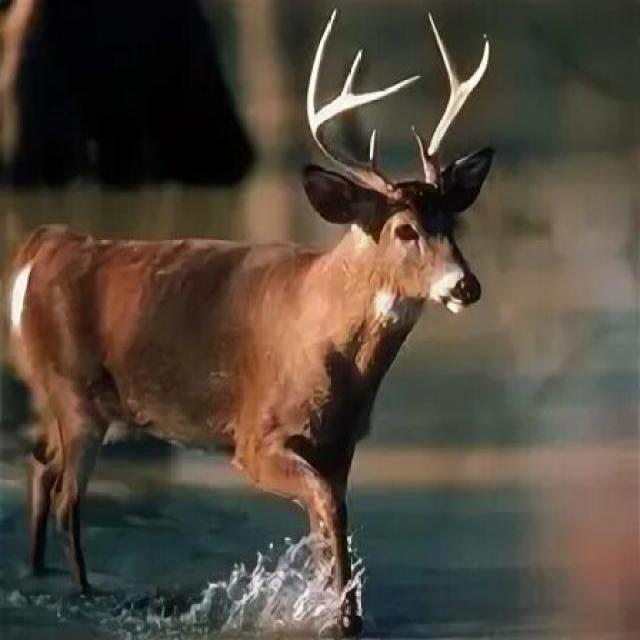deer: (0, 86, 558, 577)
